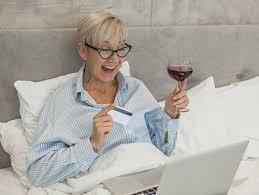Drunk: (90, 34, 125, 81)
